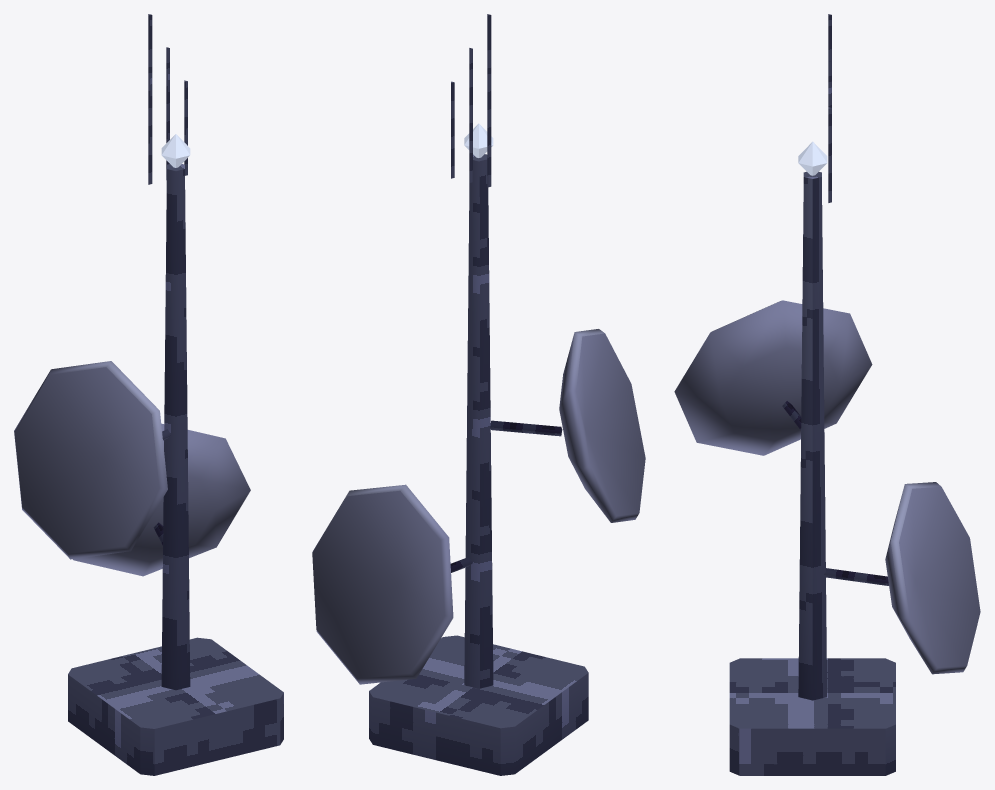
The model's file is cytech.antenna.glb.
3 views of the same model, side by side, from view 1: azimuth 30°, elevation 25°; view 2: azimuth 150°, elevation 25°; view 3: azimuth 270°, elevation 25° (orthographic).
Parts seen in each view (by area): view 1: kit_mast, kit_beacon; view 2: kit_mast; view 3: kit_mast, kit_beacon.
Boxes of the visible parts, x1,y1,x2,y2 form: kit_mast: (14,14,283,775); kit_beacon: (161,134,190,167); kit_mast: (312,14,645,775); kit_mast: (674,14,980,775); kit_beacon: (798,141,827,175).
Bounding box in the file's own units: 1.47 × 3.8 × 1.47.
Materials: 5 (4 with a texture image).
